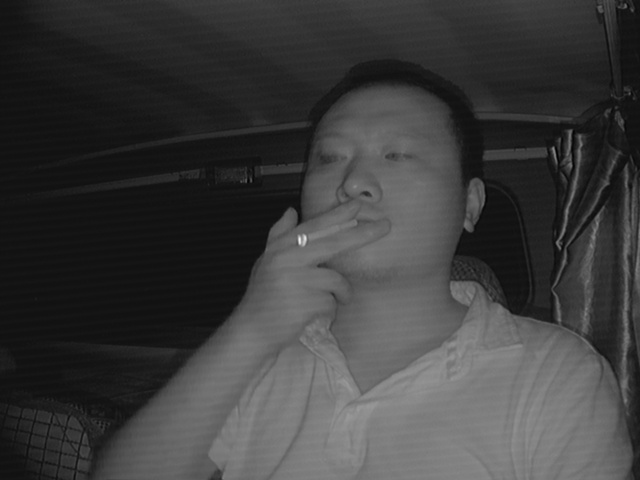hand: (245, 195, 390, 345)
